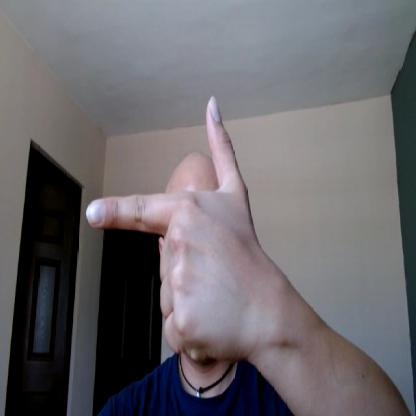G: (85, 95, 253, 361)
